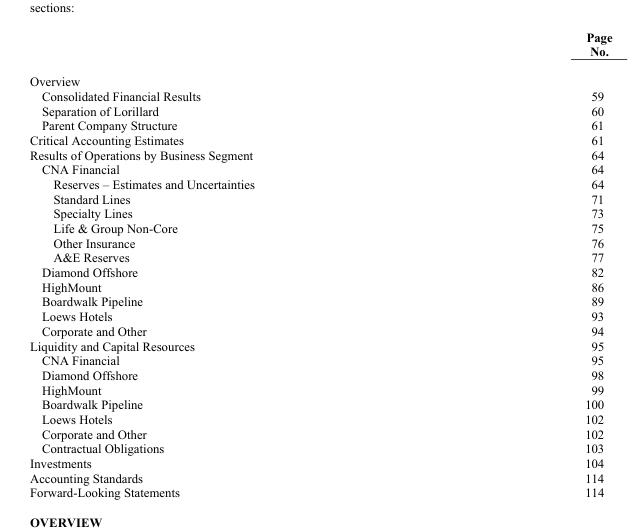table: (28, 29, 611, 499)
table column: (28, 29, 419, 499), (419, 29, 611, 499)
table column header: (28, 29, 611, 66)
table projected row header: (28, 66, 611, 88)
table row: (28, 29, 611, 66), (28, 66, 611, 88), (28, 102, 611, 117), (28, 117, 611, 132), (28, 132, 611, 147), (28, 161, 611, 176), (28, 176, 611, 191), (28, 205, 611, 220), (28, 220, 611, 235), (28, 249, 611, 264), (28, 264, 611, 279), (28, 293, 611, 308), (28, 308, 611, 323), (28, 337, 611, 352), (28, 352, 611, 367), (28, 381, 611, 396), (28, 396, 611, 411), (28, 411, 611, 426), (28, 440, 611, 455), (28, 455, 611, 470), (28, 484, 611, 499), (28, 88, 611, 102), (28, 147, 611, 161), (28, 191, 611, 205), (28, 235, 611, 249), (28, 279, 611, 293), (28, 323, 611, 337), (28, 367, 611, 381), (28, 426, 611, 440), (28, 470, 611, 484)
